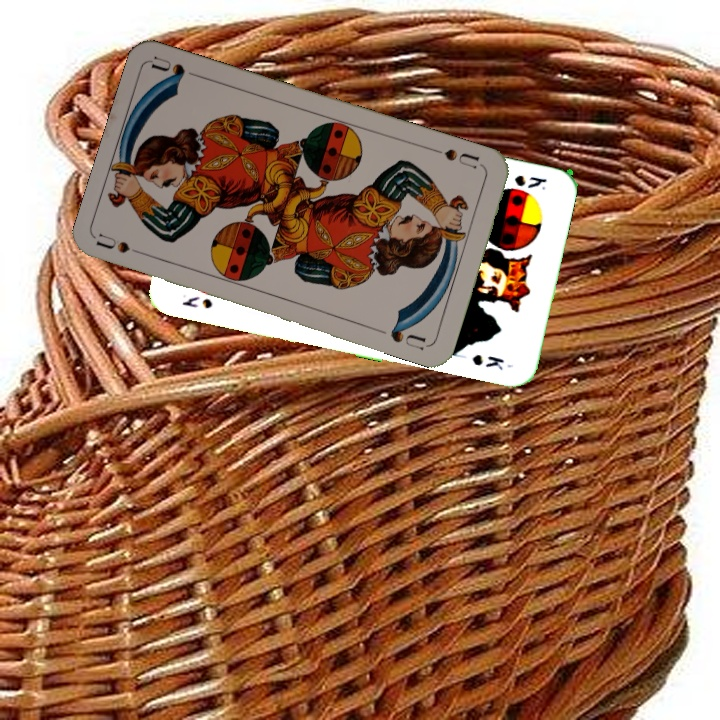SK: (510, 171, 550, 193), (178, 290, 215, 312)
SU: (94, 230, 153, 260), (428, 144, 486, 172)
